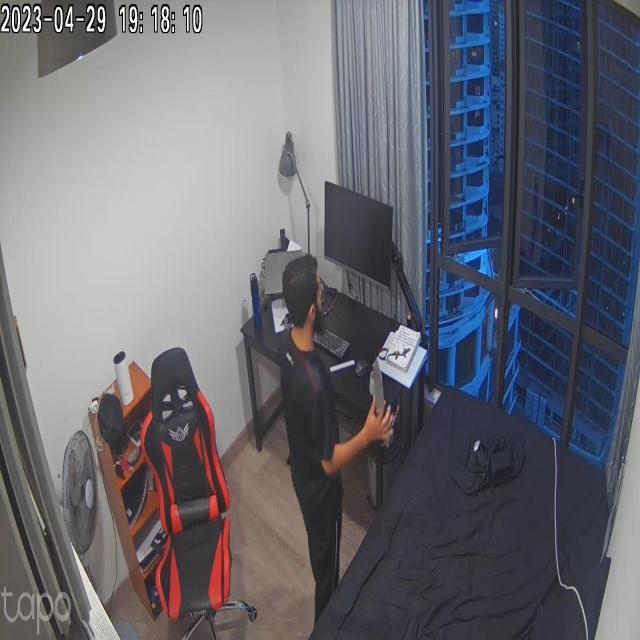Knife: (364, 364, 394, 418)
